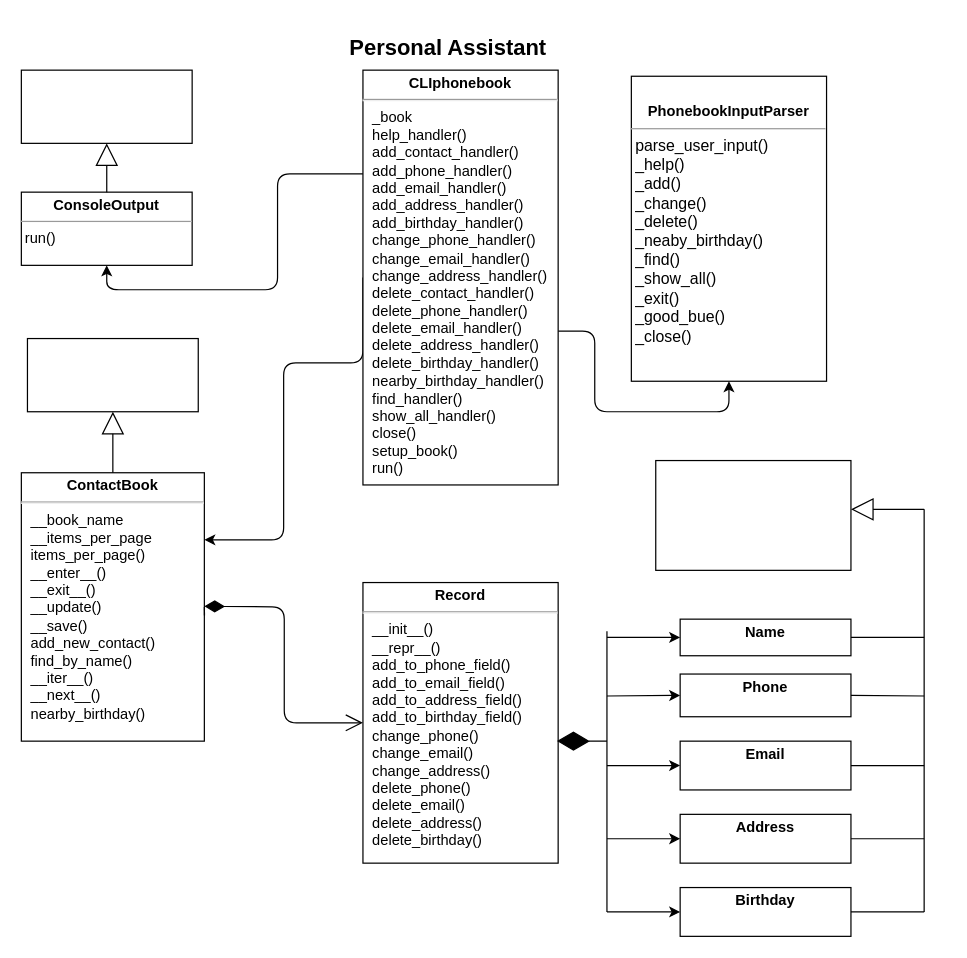
Some shapes in this 967 by 958 pixel diagram are drawn without their labels. Here are the shapes that lost their labels. From the top down, the centre of each, then its label:
the point at 106,106: AbsOutput run()
the point at 112,374: UserDict
the point at 753,514: Field __init__() value() value()
